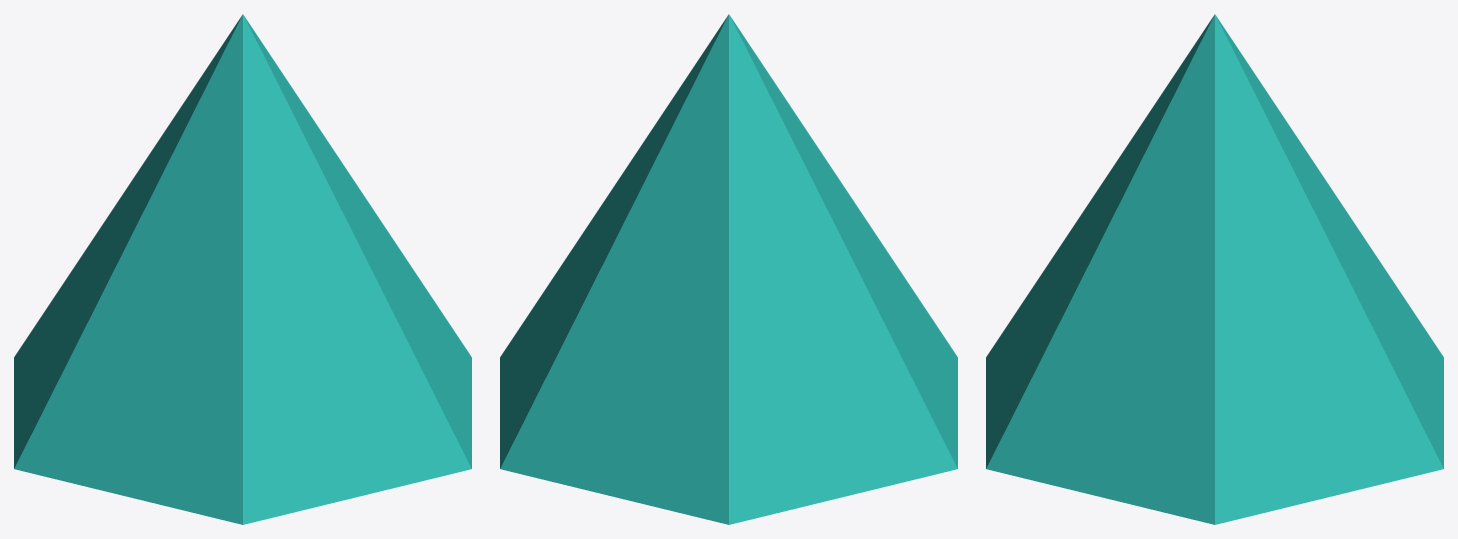
File: hexagonal-pyramid-lite.glb
3 renders of one model, left to right at view 1: azimuth 30°, elevation 25°; view 2: azimuth 150°, elevation 25°; view 3: azimuth 270°, elevation 25°, orthographic.
Parts seen in each view (by area): view 1: Hexagonal pyramid; view 2: Hexagonal pyramid; view 3: Hexagonal pyramid.
Part boxes in pixels (x1,y1,x2,y2): Hexagonal pyramid: (14, 14, 471, 524); Hexagonal pyramid: (500, 14, 957, 524); Hexagonal pyramid: (986, 14, 1443, 524).
Bounding box in the file's own units: 1.8 × 1.5 × 1.56.
